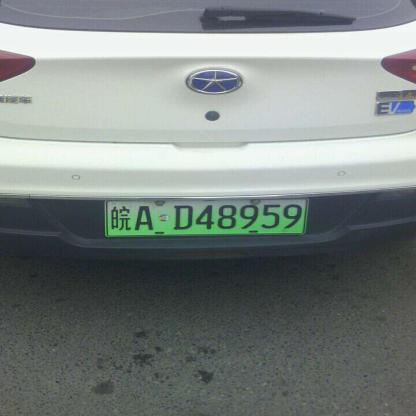lp: (104, 197, 309, 238)
